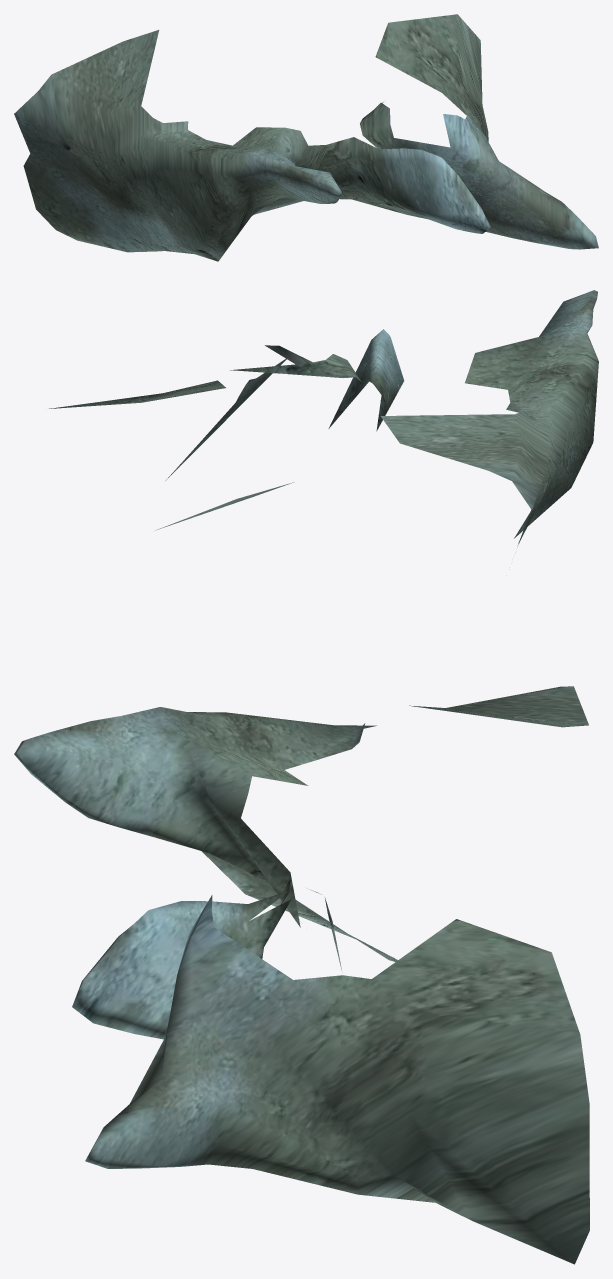
3 renders of one model, top to bottom at view 1: azimuth 30°, elevation 25°; view 2: azimuth 150°, elevation 25°; view 3: azimuth 270°, elevation 25°, orthographic. The views are drawn at different scales.
Parts seen in each view (by area): view 1: model_Object02; view 2: model_Object02; view 3: model_Object02.
Boxes of the visible parts, x1,y1,x2,y2 form: model_Object02: (14, 14, 598, 261); model_Object02: (49, 290, 598, 545); model_Object02: (14, 686, 589, 1264).
Size of the model in its own units: 2.95 by 1.3 by 2.17.
Materials: 1 (1 with a texture image).
